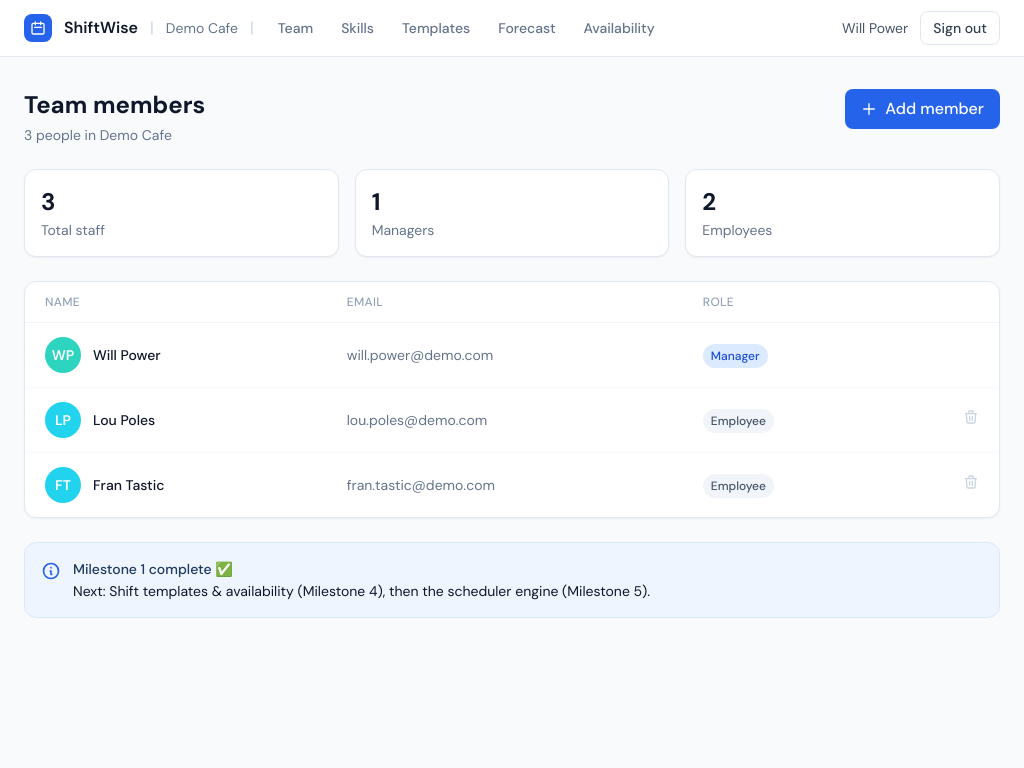
Test case: DashboardPage › opens AddEmployeeModal when Add member is clicked
The image size is (1024, 768).
Click the button "Add member". click: coordinates (923, 109)
box: x1=845 y1=89 x2=1000 y2=129
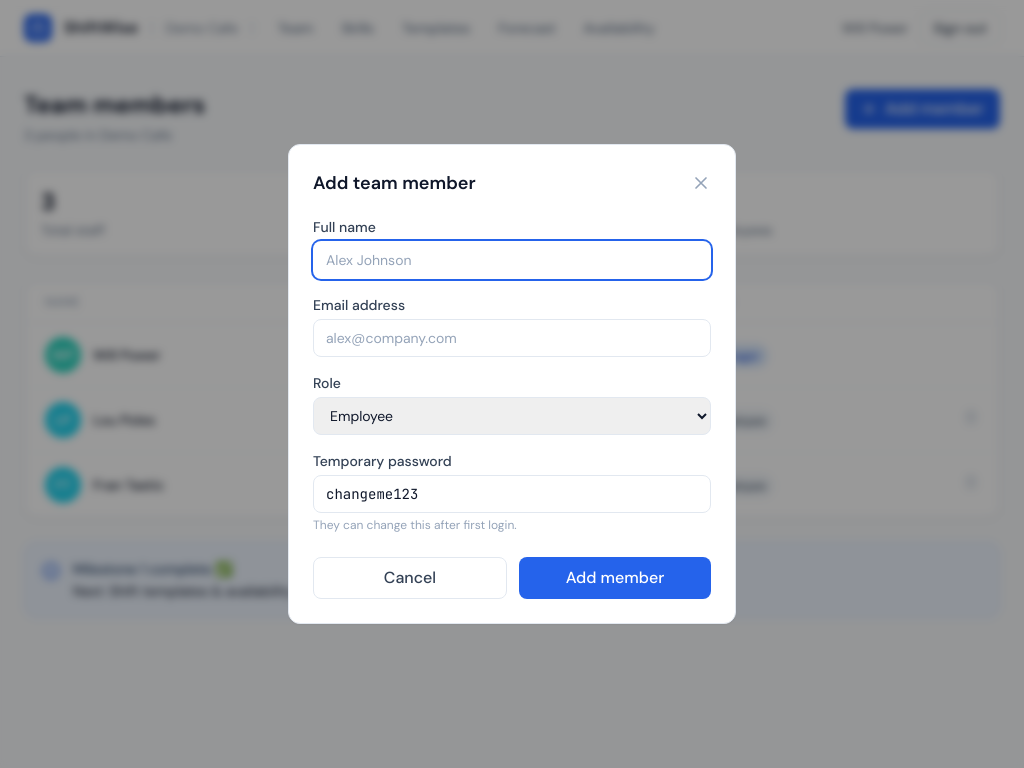
Now the heading "Add team member" is shown, box x1=313 y1=169 x2=476 y2=197
